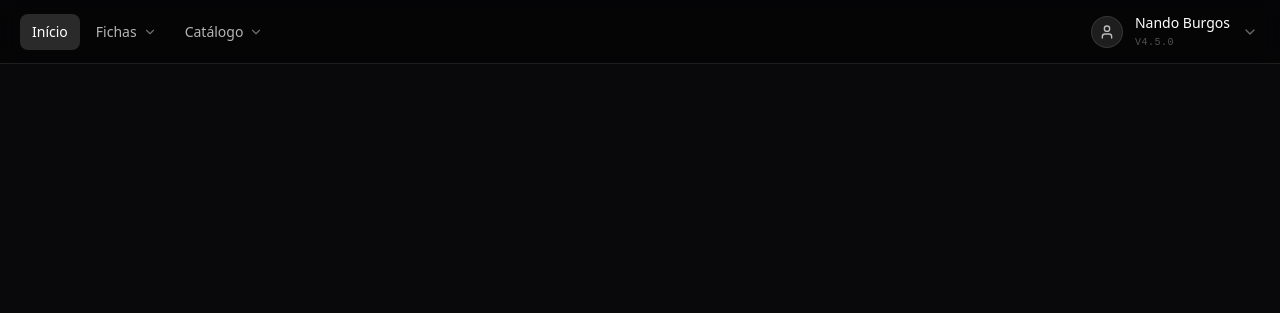
Test: GlassHeader (desktop) › abre o container no hover do mouse com os itens na ordem
The image size is (1280, 313).
Hover over the button "Catálogo" at (224, 32), box top-left (173, 14), bottom-right (275, 50)
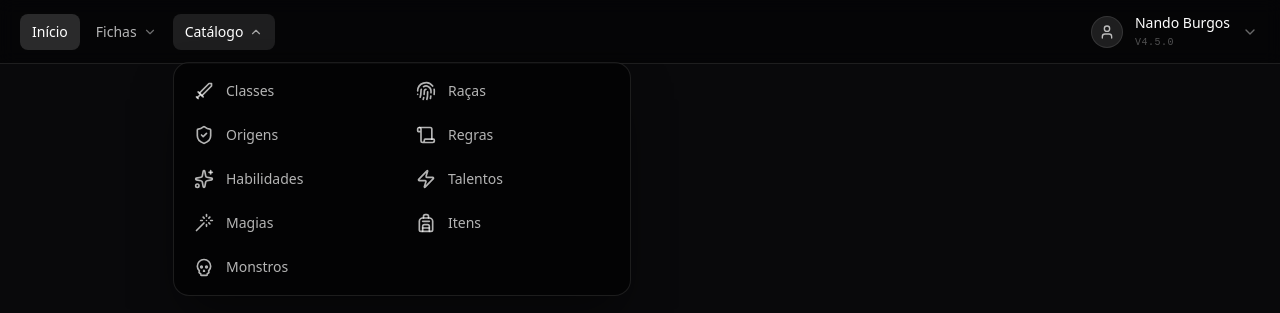
Check: the button "Catálogo" is expanded, box top-left (173, 14), bottom-right (275, 50)
